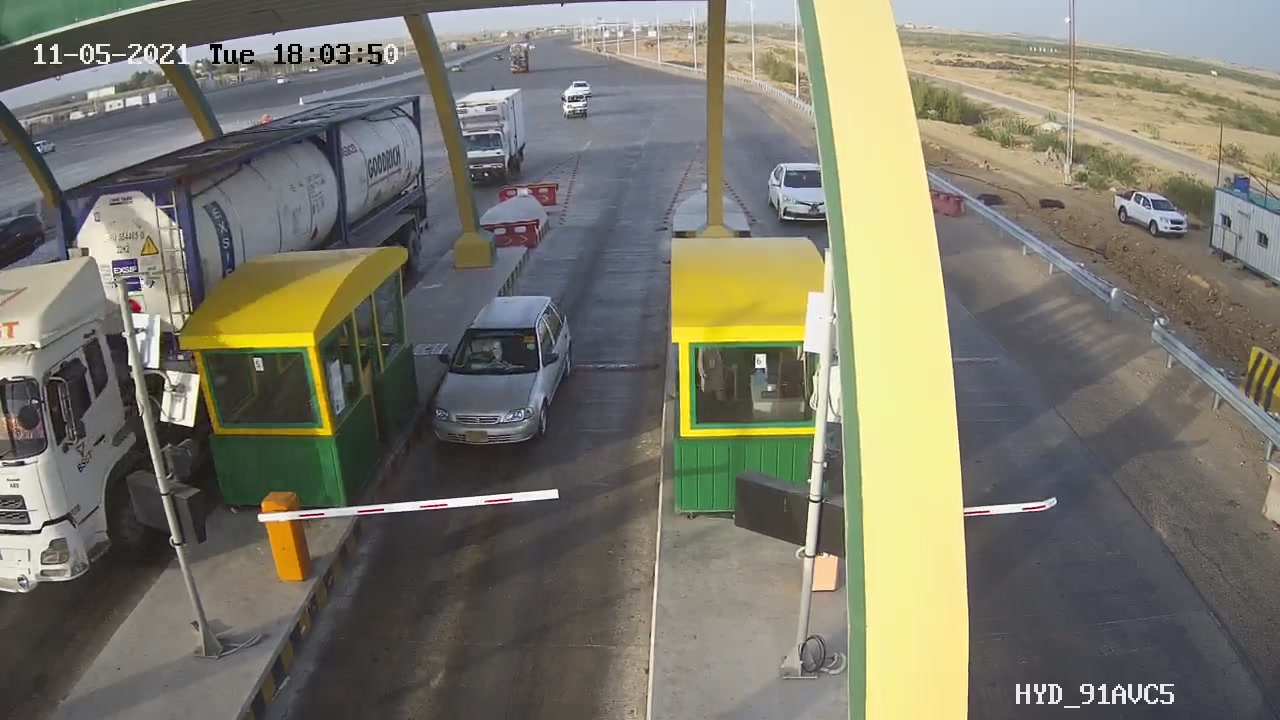F1: (398, 281, 602, 468)
